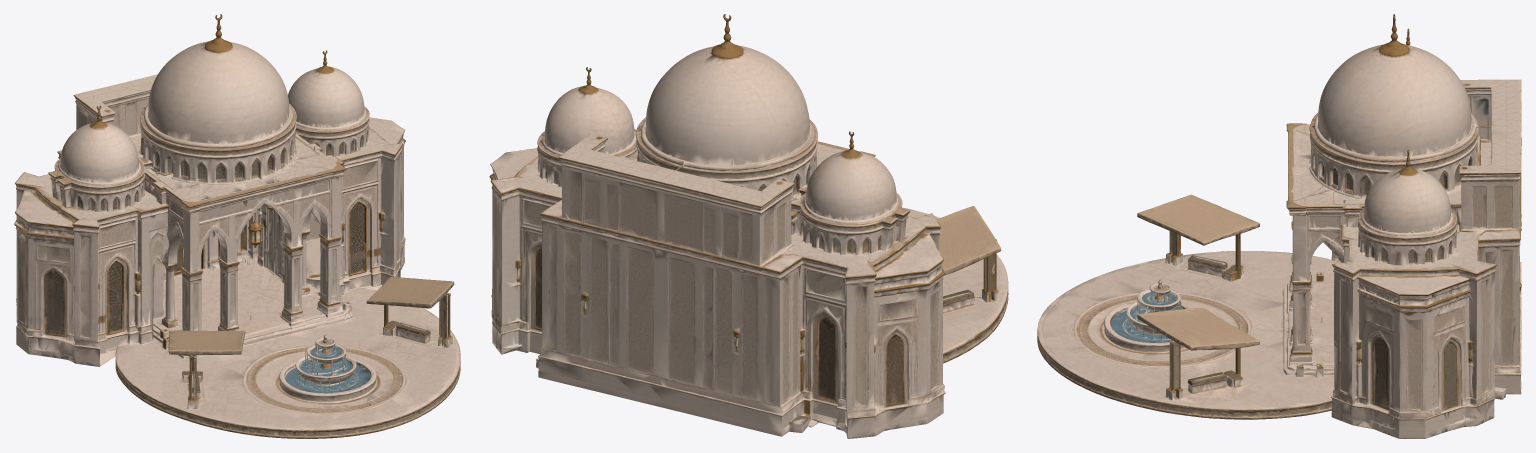
The model's file is community.glb.
The picture shows the model from 3 angles, left to right: view 1: azimuth 30°, elevation 25°; view 2: azimuth 150°, elevation 25°; view 3: azimuth 270°, elevation 25°; orthographic projection. The views are drawn at different scales.
Size of the model in its own units: 44.61 by 33.6 by 45.
Materials: 1 (1 with a texture image).
